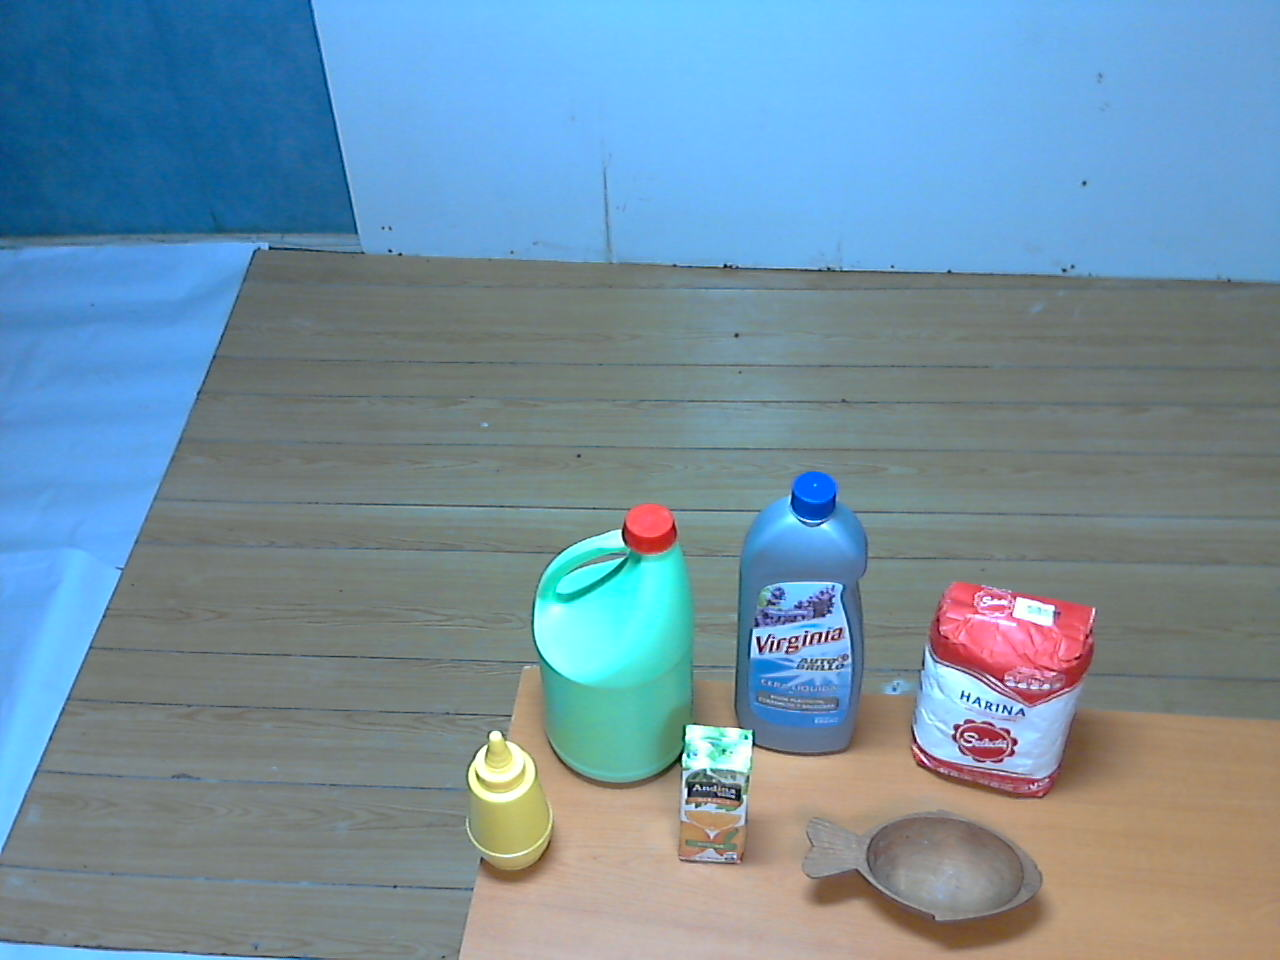cera: (716, 464, 880, 773)
cloroplano: (520, 495, 705, 807)
harina: (898, 567, 1108, 811)
jugoind: (664, 707, 766, 886)
mostaza: (447, 721, 566, 878)
pescado: (794, 798, 1055, 938)
